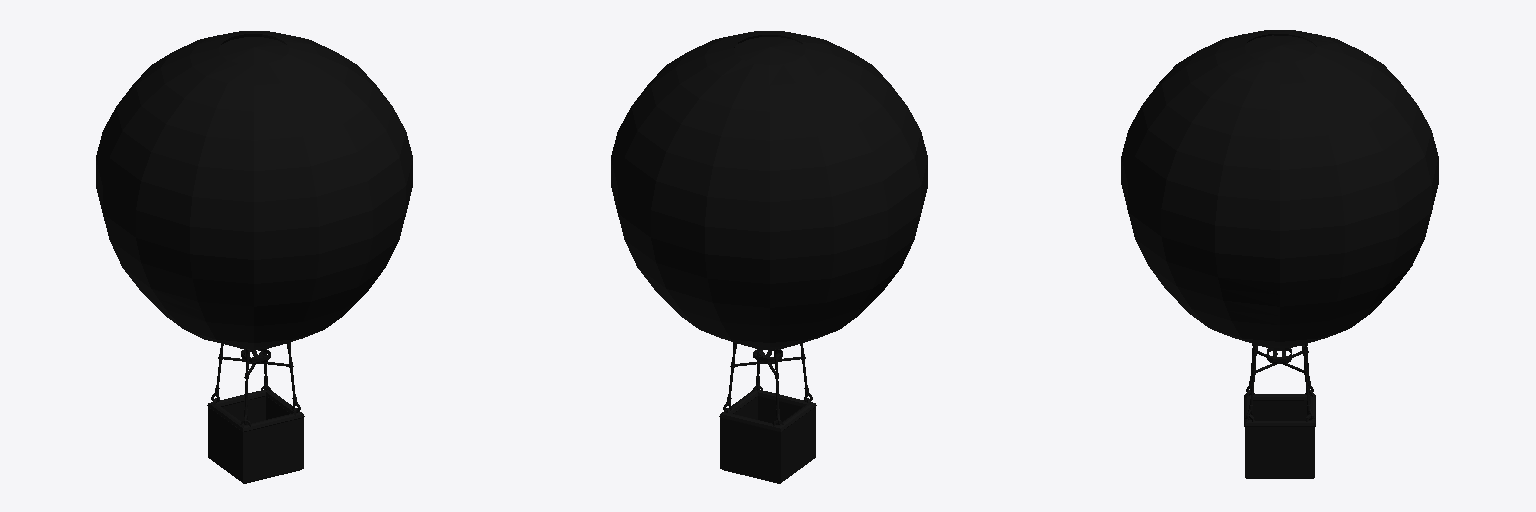
The model's file is luchtballon4.obj.
The picture shows the model from 3 angles: view 1: azimuth 30°, elevation 25°; view 2: azimuth 150°, elevation 25°; view 3: azimuth 270°, elevation 25°; orthographic projection.
Parts seen in each view (by area): view 1: Mesh; view 2: Mesh; view 3: Mesh.
Boxes of the visible parts, x1,y1,x2,y2 form: Mesh: [96, 31, 412, 483]; Mesh: [611, 31, 927, 483]; Mesh: [1121, 30, 1438, 478].
Bounding box in the file's own units: 15.45 × 22.61 × 15.54.